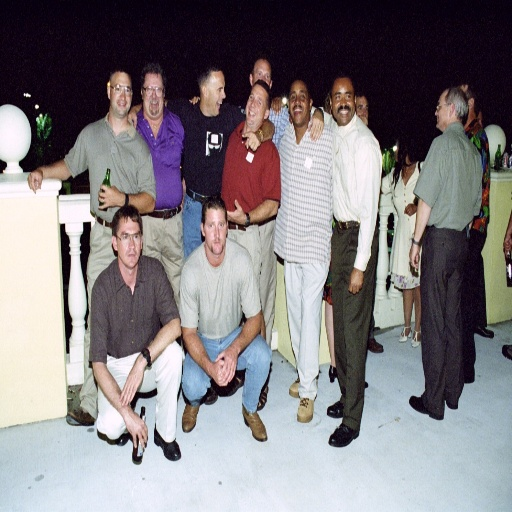hand: (118, 366, 144, 406), (124, 410, 148, 450), (210, 350, 237, 385), (225, 198, 246, 228), (98, 185, 121, 209), (306, 109, 322, 141), (347, 266, 364, 296), (240, 129, 260, 151), (211, 357, 226, 386), (26, 167, 41, 192), (408, 238, 419, 269), (271, 97, 284, 115), (502, 232, 511, 258), (127, 107, 138, 128), (402, 202, 416, 215), (188, 94, 200, 104), (358, 114, 367, 125)
